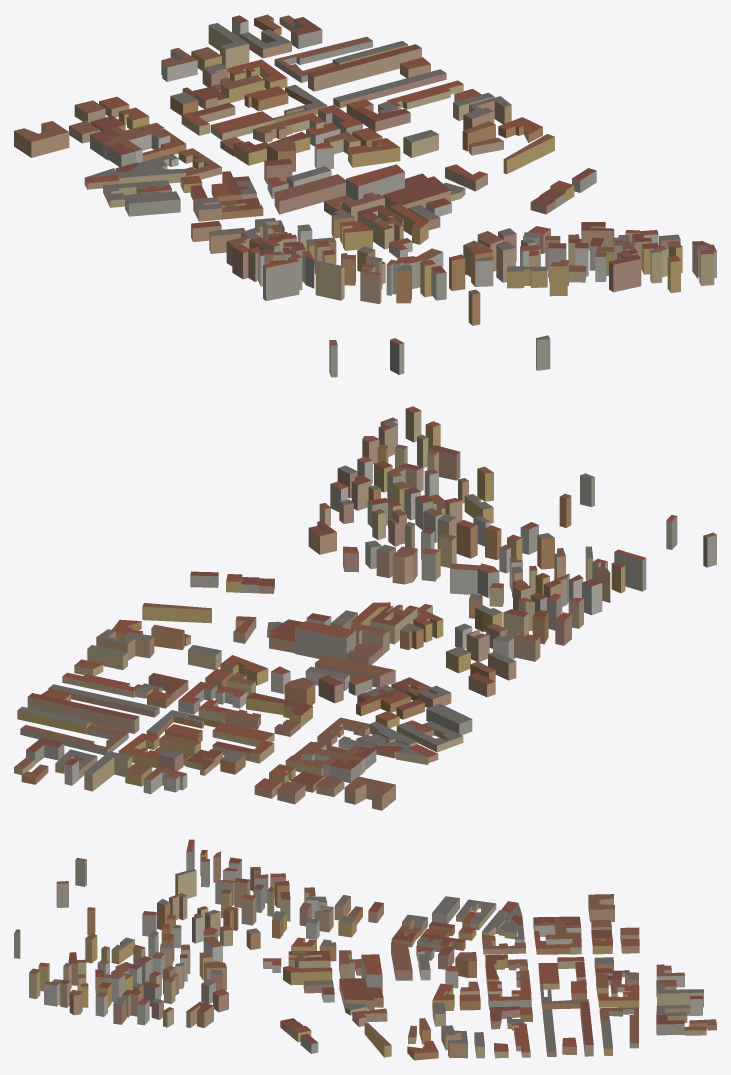
File: SM_Fondale_Citta_NO_02_LOD1.fbx
3 views of the same model, one above another, from view 1: azimuth 30°, elevation 25°; view 2: azimuth 150°, elevation 25°; view 3: azimuth 270°, elevation 25° (orthographic). The views are drawn at different scales.
Parts seen in each view (by area): view 1: SM_Fondale_Citta_NO_02_LOD1; view 2: SM_Fondale_Citta_NO_02_LOD1; view 3: SM_Fondale_Citta_NO_02_LOD1.
Boxes of the visible parts, left/top/right/bottom form: SM_Fondale_Citta_NO_02_LOD1: left=14, top=14, right=716, bottom=377; SM_Fondale_Citta_NO_02_LOD1: left=14, top=406, right=716, bottom=810; SM_Fondale_Citta_NO_02_LOD1: left=14, top=839, right=716, bottom=1060.
Size of the model in its own units: 45824 by 82648 by 8290.
